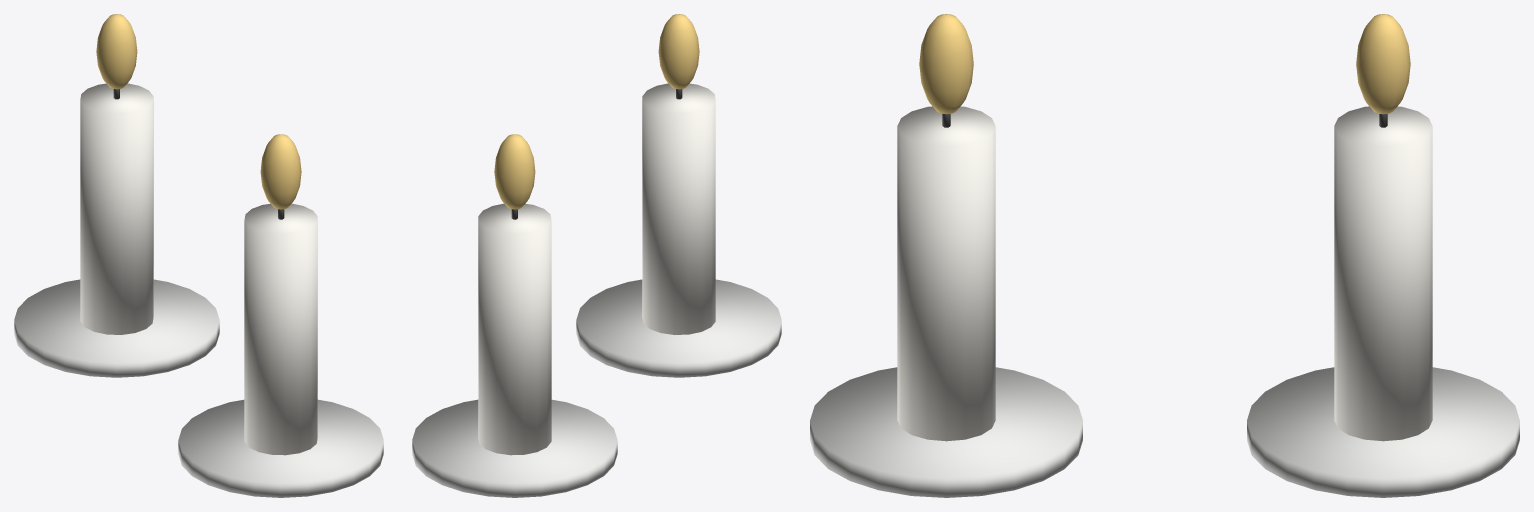
Rendered from escena.casa.velas.fbx.
3 views of the same model, side by side, from view 1: azimuth 30°, elevation 25°; view 2: azimuth 150°, elevation 25°; view 3: azimuth 270°, elevation 25° (orthographic). The views are drawn at different scales.
Parts seen in each view (by area): view 1: Vela, Vela.001, Platito, Platito.001, Llama, Llama.001; view 2: Vela.001, Vela, Platito.001, Platito, Llama.001, Llama; view 3: Vela, Vela.001, Platito, Platito.001, Llama, Llama.001.
Part boxes in pixels (x1=…): Vela: x1=80, y1=83, x2=153, y2=334; Vela.001: x1=244, y1=203, x2=317, y2=455; Platito: x1=14, y1=279, x2=219, y2=377; Platito.001: x1=178, y1=399, x2=383, y2=497; Llama: x1=96, y1=14, x2=137, y2=89; Llama.001: x1=260, y1=134, x2=301, y2=209; Vela.001: x1=642, y1=83, x2=715, y2=334; Vela: x1=478, y1=203, x2=551, y2=455; Platito.001: x1=576, y1=279, x2=781, y2=377; Platito: x1=412, y1=399, x2=617, y2=497; Llama.001: x1=658, y1=14, x2=699, y2=89; Llama: x1=494, y1=134, x2=535, y2=209; Vela: x1=1334, y1=106, x2=1432, y2=441; Vela.001: x1=897, y1=106, x2=995, y2=441; Platito: x1=1247, y1=367, x2=1519, y2=497; Platito.001: x1=810, y1=367, x2=1082, y2=497; Llama: x1=1356, y1=14, x2=1410, y2=114; Llama.001: x1=919, y1=14, x2=973, y2=114.
Bounding box in the file's own units: 0.1 × 0.172 × 0.26.
